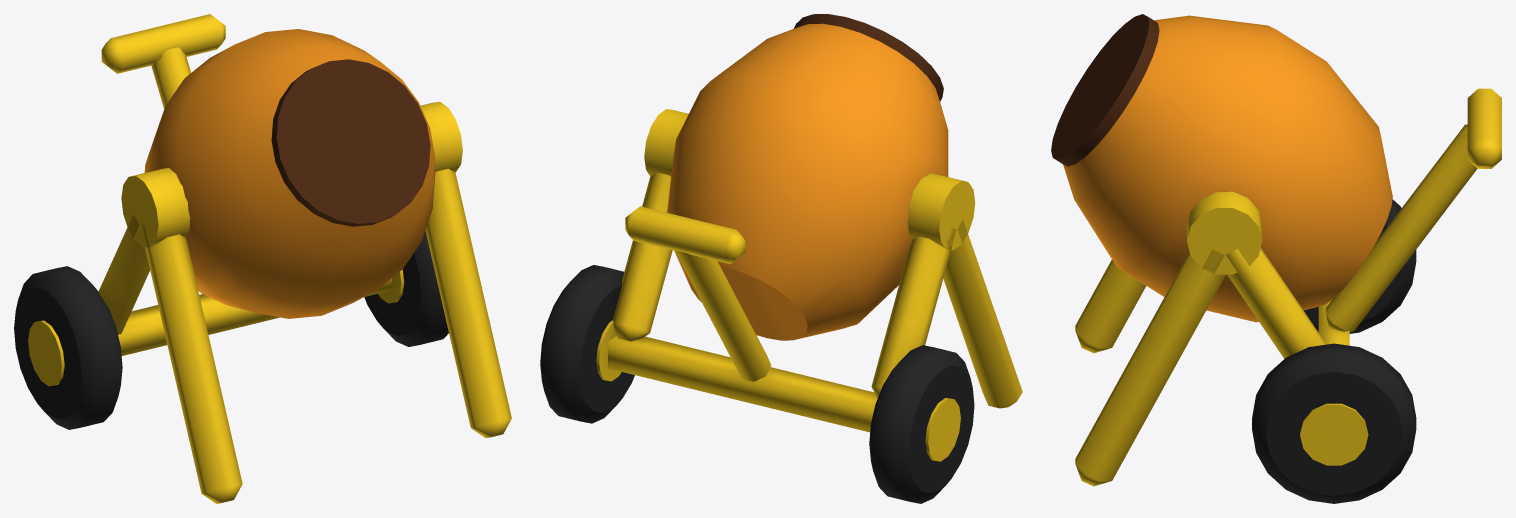
Rendered from cement-mixer.fbx.
3 renders of one model, left to right at view 1: azimuth 30°, elevation 25°; view 2: azimuth 150°, elevation 25°; view 3: azimuth 270°, elevation 25°, orthographic. The views are drawn at different scales.
Parts seen in each view (by area): view 1: cement-mixer; view 2: cement-mixer; view 3: cement-mixer.
Part boxes in pixels (x1=…): cement-mixer: x1=14, y1=14, x2=511, y2=503; cement-mixer: x1=540, y1=14, x2=1022, y2=503; cement-mixer: x1=1051, y1=14, x2=1501, y2=503.
Size of the model in its own units: 740 by 711 by 738.
Materials: 1 (1 with a texture image).
